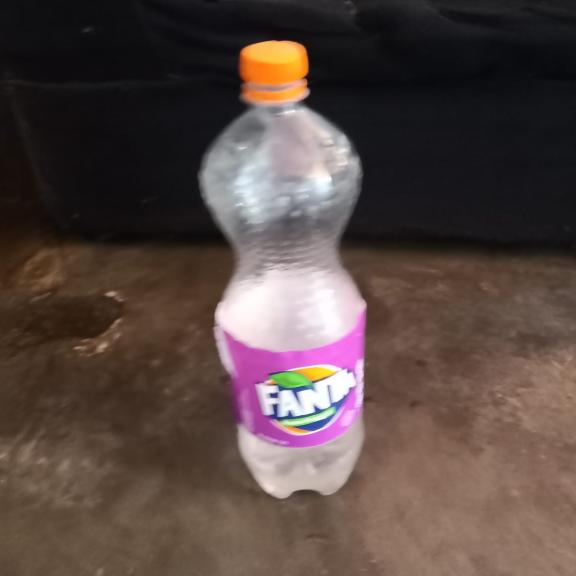Plastik: (198, 42, 366, 497)
